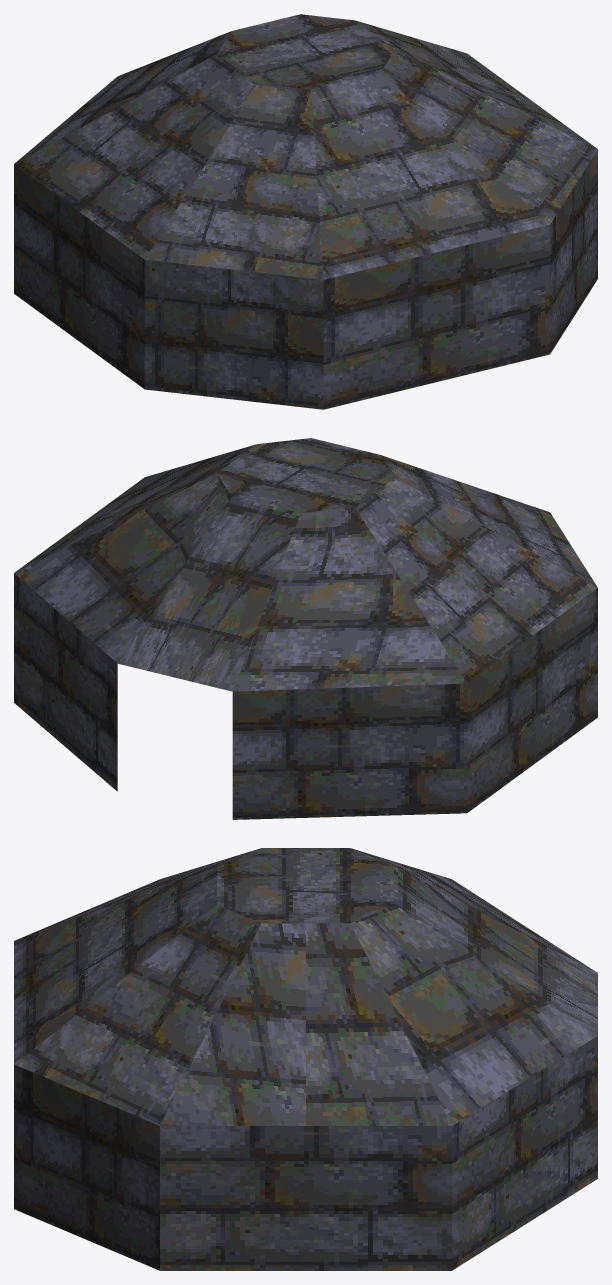
The model's file is MuroFinal.fbx.
The picture shows the model from 3 angles, top to bottom: view 1: azimuth 30°, elevation 25°; view 2: azimuth 150°, elevation 25°; view 3: azimuth 270°, elevation 25°; orthographic projection. The views are drawn at different scales.
Visible parts, largest first — view 1: SueloPasillo.018; view 2: SueloPasillo.018; view 3: SueloPasillo.018.
Part boxes in pixels (box(x1,y1,x2,y2)): SueloPasillo.018: box(14, 14, 597, 409); SueloPasillo.018: box(14, 438, 597, 819); SueloPasillo.018: box(14, 848, 597, 1270).
Bounding box in the file's own units: 1121 × 554 × 1121.
